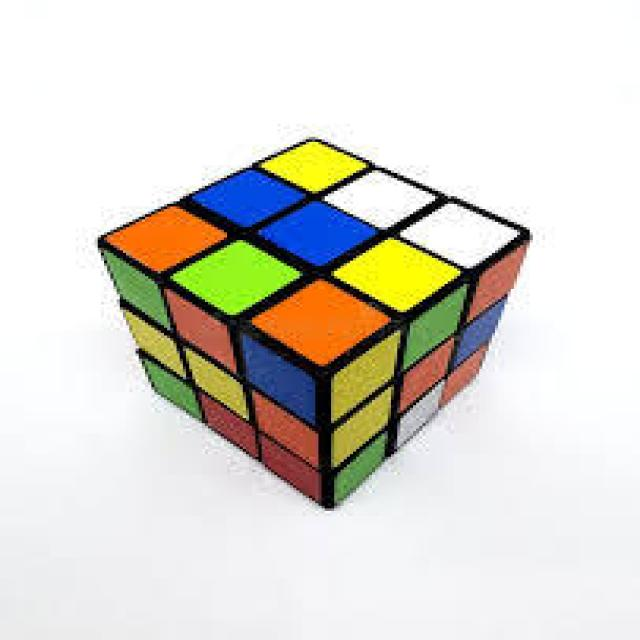Cubo-No-resuelto: (101, 139, 527, 506)
